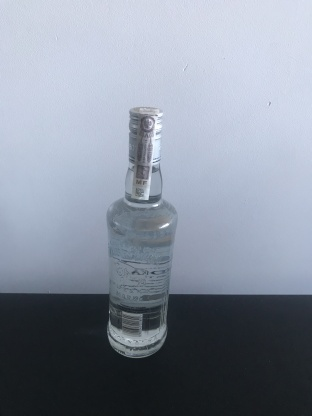nakretka: (125, 100, 166, 165)
